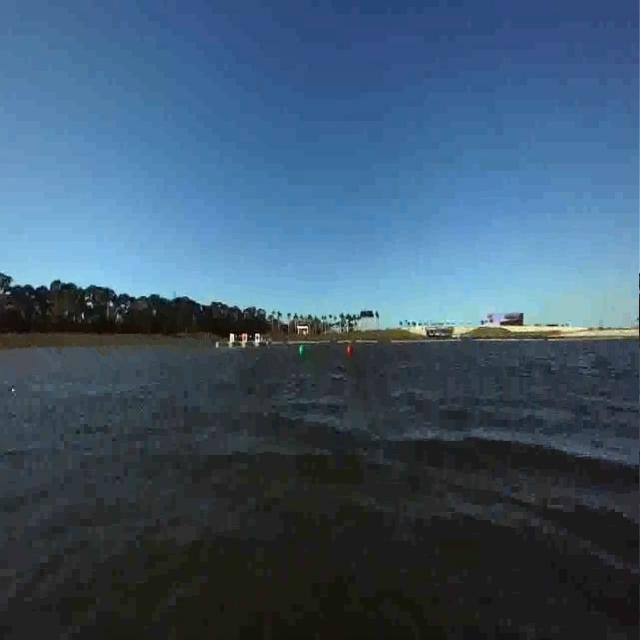green-buoy: (295, 335, 314, 368)
red-buoy: (341, 338, 361, 357)
